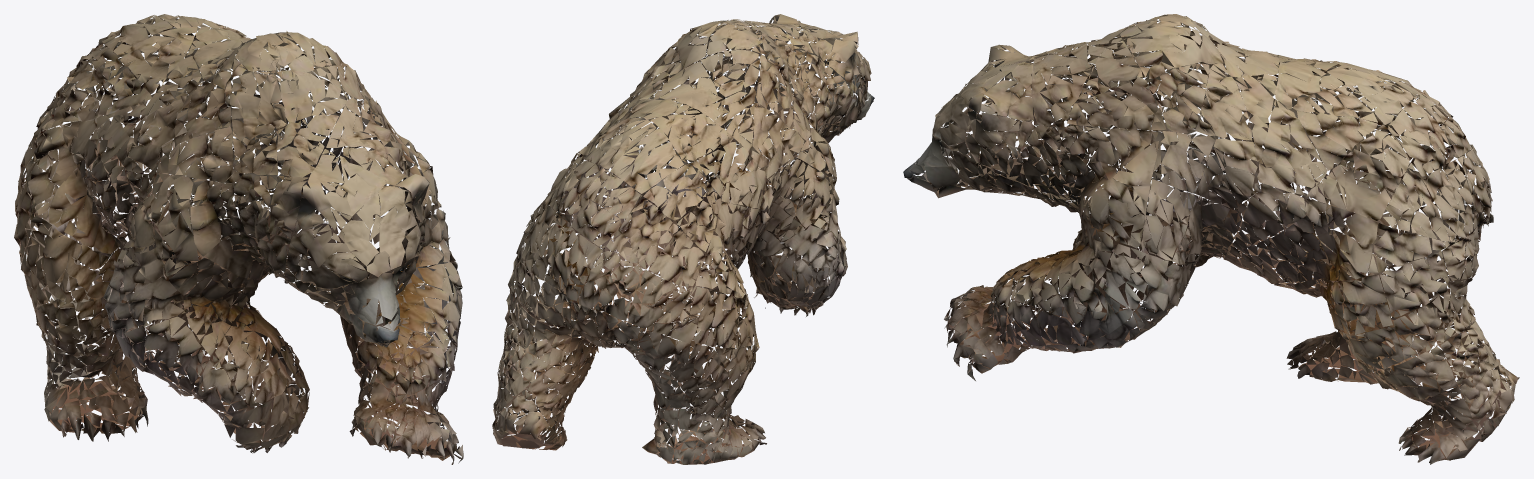
Rendered from k07_ayi.glb.
The picture shows the model from 3 angles, left to right: view 1: azimuth 30°, elevation 25°; view 2: azimuth 150°, elevation 25°; view 3: azimuth 270°, elevation 25°; orthographic projection. The views are drawn at different scales.
Visible parts, largest first — view 1: Mesh_0; view 2: Mesh_0; view 3: Mesh_0.
Boxes of the visible parts, <box> form: Mesh_0: <box>14,14,463,464</box>; Mesh_0: <box>492,14,874,464</box>; Mesh_0: <box>903,14,1519,464</box>.
Size of the model in its own units: 0.9628 by 1.31 by 1.88.
1 material, 1 textured.
